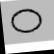no answer: (7, 6, 46, 37)
